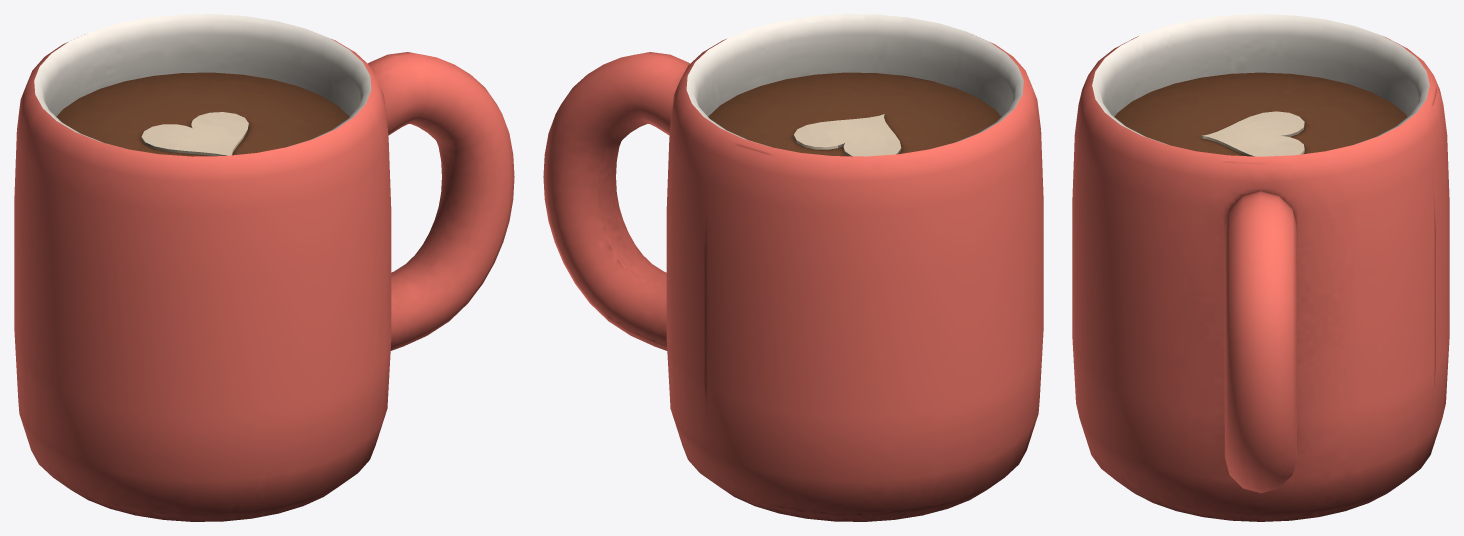
Rendered from mug.glb.
The picture shows the model from 3 angles, left to right: view 1: azimuth 30°, elevation 25°; view 2: azimuth 150°, elevation 25°; view 3: azimuth 270°, elevation 25°; orthographic projection.
Visible parts, largest first — view 1: mug; view 2: mug; view 3: mug.
Boxes of the visible parts, x1,y1,x2,y2 form: mug: [14, 14, 514, 521]; mug: [543, 14, 1043, 521]; mug: [1072, 14, 1449, 521].
Size of the model in its own units: 0.1318 by 0.1012 by 0.0916.
4 materials, 4 textured.
